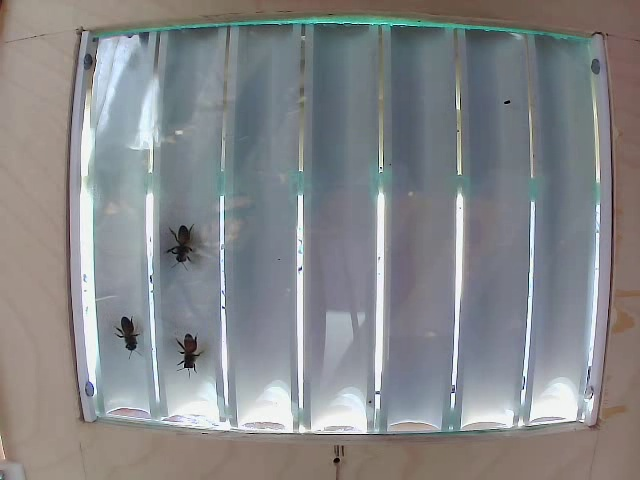bee: (107, 307, 148, 349), (159, 219, 200, 260), (177, 323, 205, 377)
